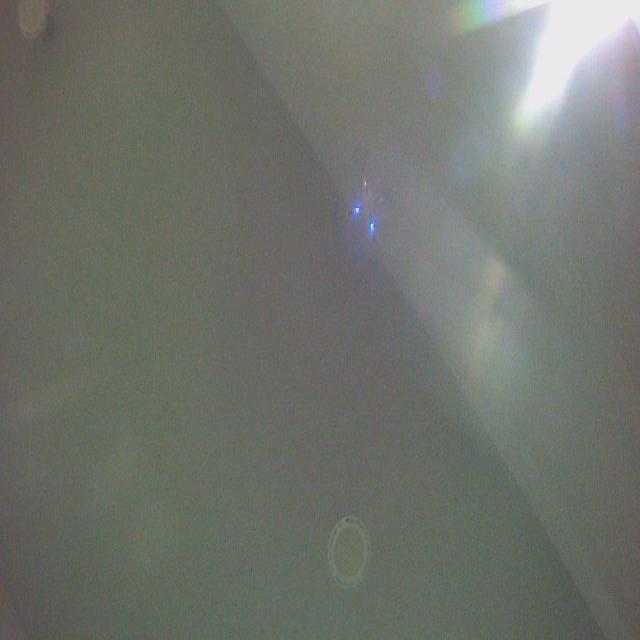drone: (332, 144, 400, 260)
